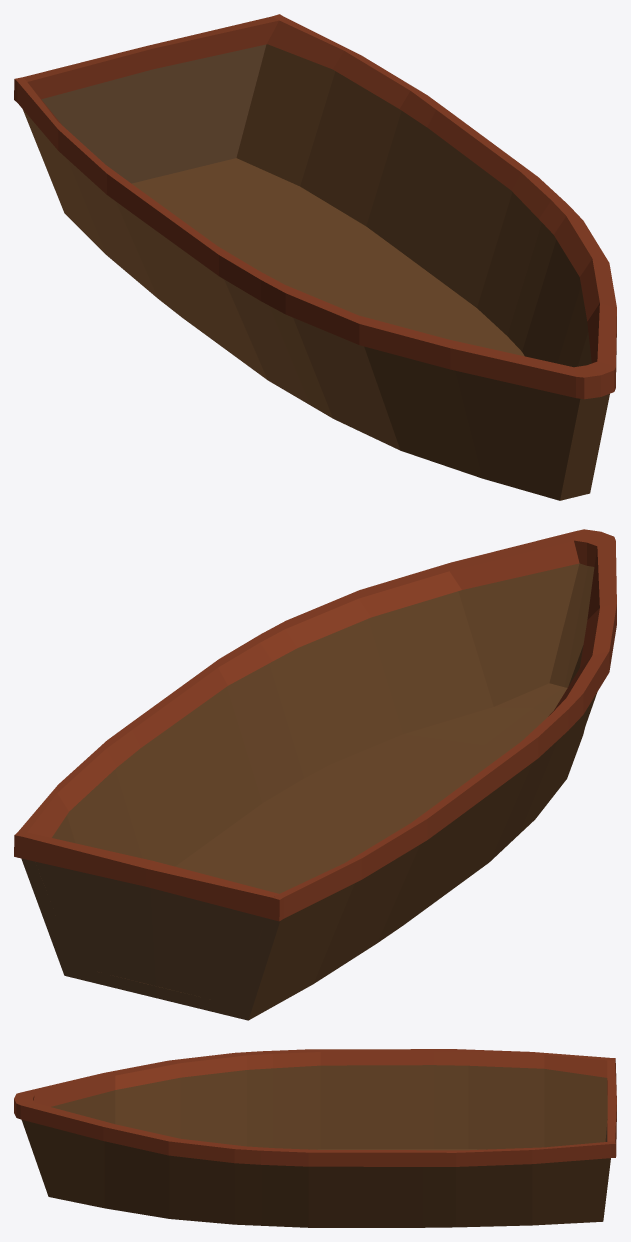
The model's file is Bote.fbx.
3 renders of one model, top to bottom at view 1: azimuth 30°, elevation 25°; view 2: azimuth 150°, elevation 25°; view 3: azimuth 270°, elevation 25°, orthographic. The views are drawn at different scales.
Parts seen in each view (by area): view 1: Plane; view 2: Plane; view 3: Plane.
Boxes of the visible parts, box(x1,y1,x2,y2) form: Plane: box(14, 14, 616, 500); Plane: box(14, 529, 616, 1020); Plane: box(14, 1049, 616, 1227).
Bounding box in the file's own units: 310 × 130 × 761.
